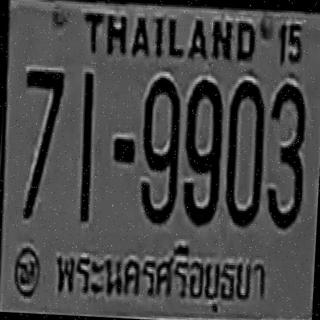N00: (138, 75, 182, 226), (223, 80, 267, 226)
N01: (77, 71, 96, 218)
N03: (264, 82, 308, 230)
N07: (18, 68, 64, 222), (21, 68, 64, 172)
N09: (138, 76, 183, 225), (181, 77, 224, 226)
P03: (51, 232, 273, 318)
